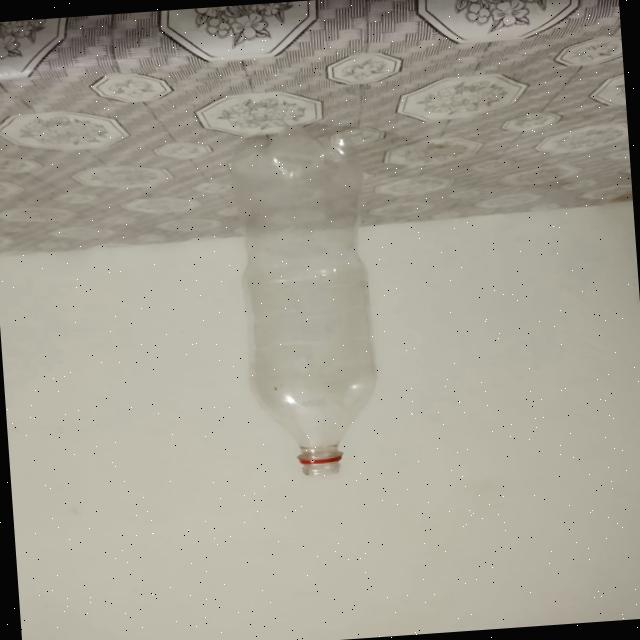bottle: (234, 120, 389, 483)
